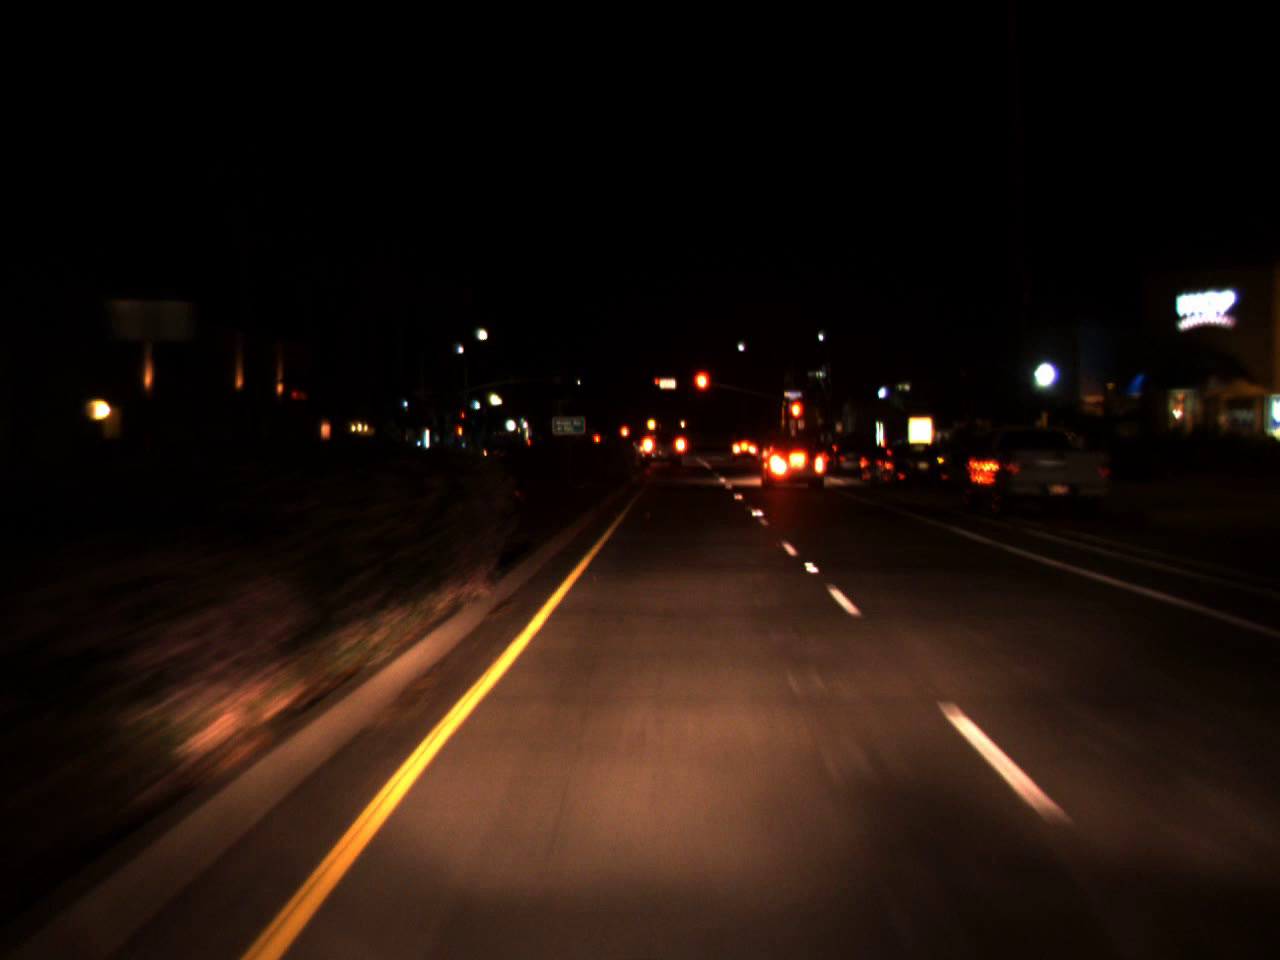stop: (691, 367, 712, 412), (787, 398, 805, 441), (653, 377, 660, 390)
